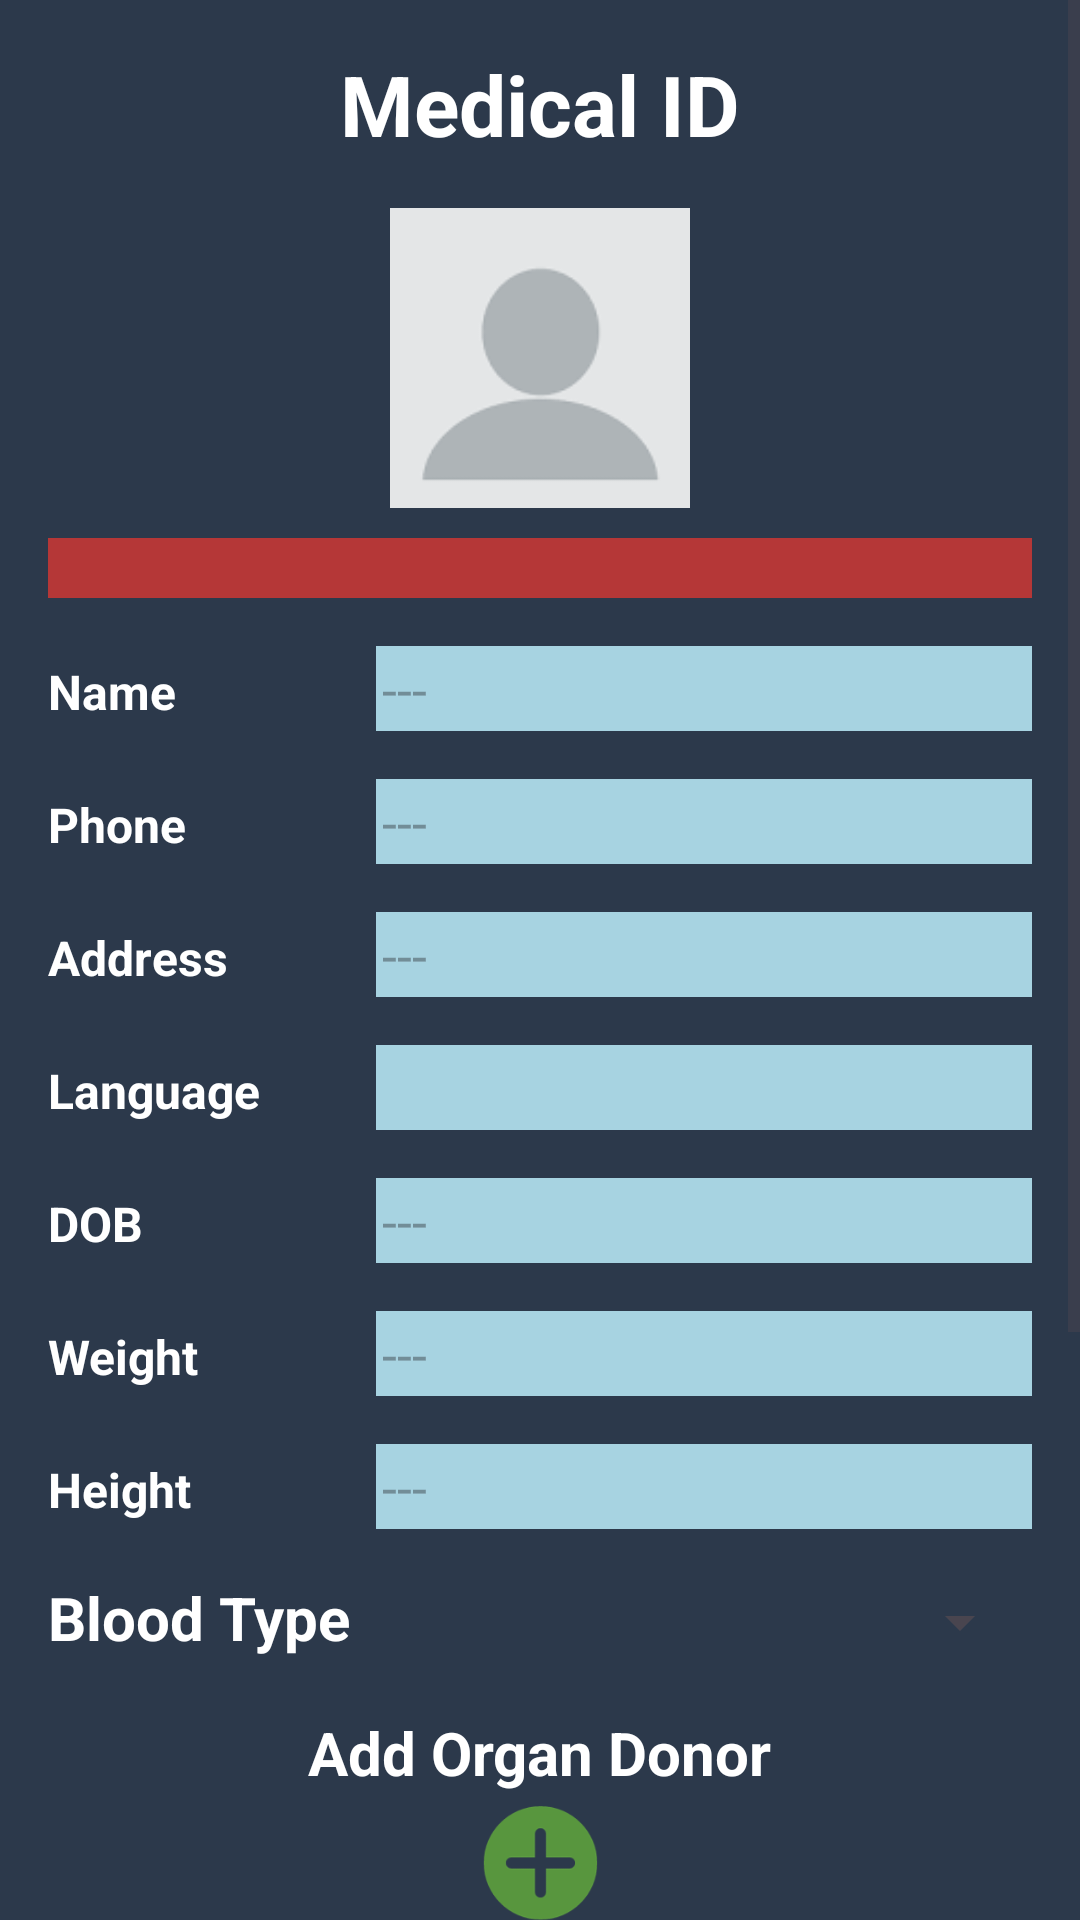

Icon click points for this 1080×1920 phone screenshot, format (x,y):
plus: (540,1863)
User Photo: (540,358)
